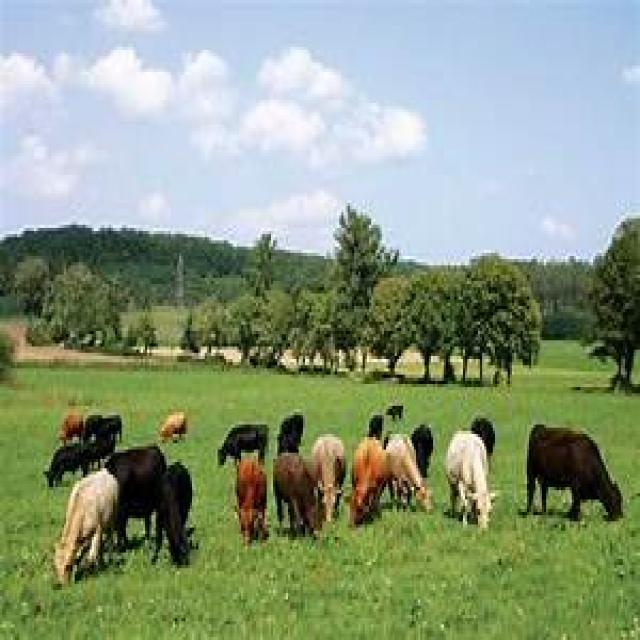animal: (523, 422, 623, 522), (51, 465, 120, 584), (152, 460, 204, 579), (444, 428, 495, 530), (271, 450, 316, 537), (346, 439, 391, 526), (386, 436, 434, 513), (309, 431, 346, 521), (232, 456, 266, 546), (38, 442, 96, 487), (215, 422, 269, 465), (275, 412, 303, 453), (57, 405, 86, 439), (158, 409, 185, 443), (367, 412, 382, 440), (384, 403, 403, 421)
